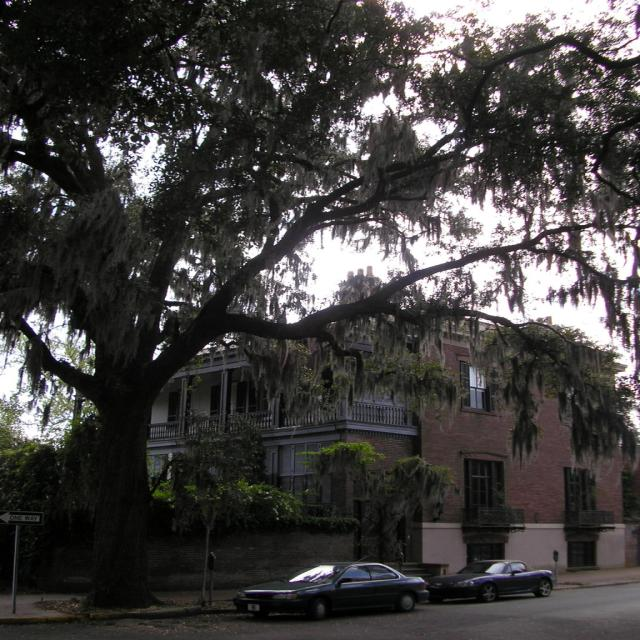car: (239, 557, 439, 615)
